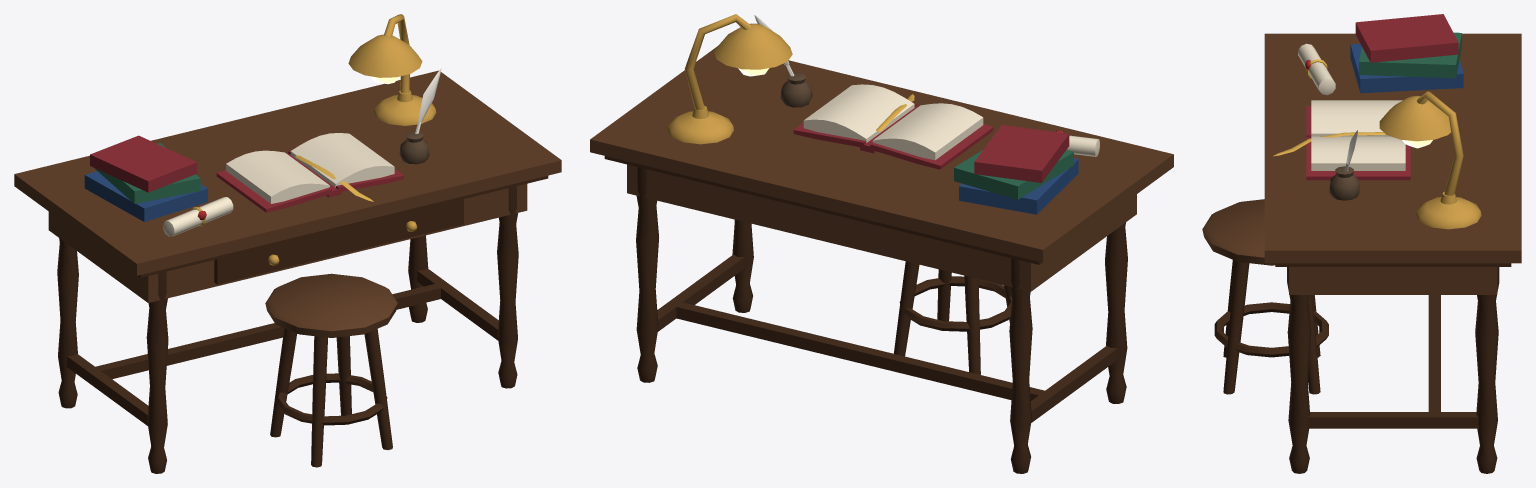
The model's file is prop_study_table.glb.
3 renders of one model, left to right at view 1: azimuth 30°, elevation 25°; view 2: azimuth 150°, elevation 25°; view 3: azimuth 270°, elevation 25°, orthographic. The views are drawn at different scales.
Visible parts, largest first — view 1: prop_study_table; view 2: prop_study_table; view 3: prop_study_table.
Part boxes in pixels (x1,y1,x2,y2): prop_study_table: (14,14,561,473); prop_study_table: (590,14,1173,473); prop_study_table: (1202,14,1521,473).
Bounding box in the file's own units: 1.48 × 1.12 × 0.92.
